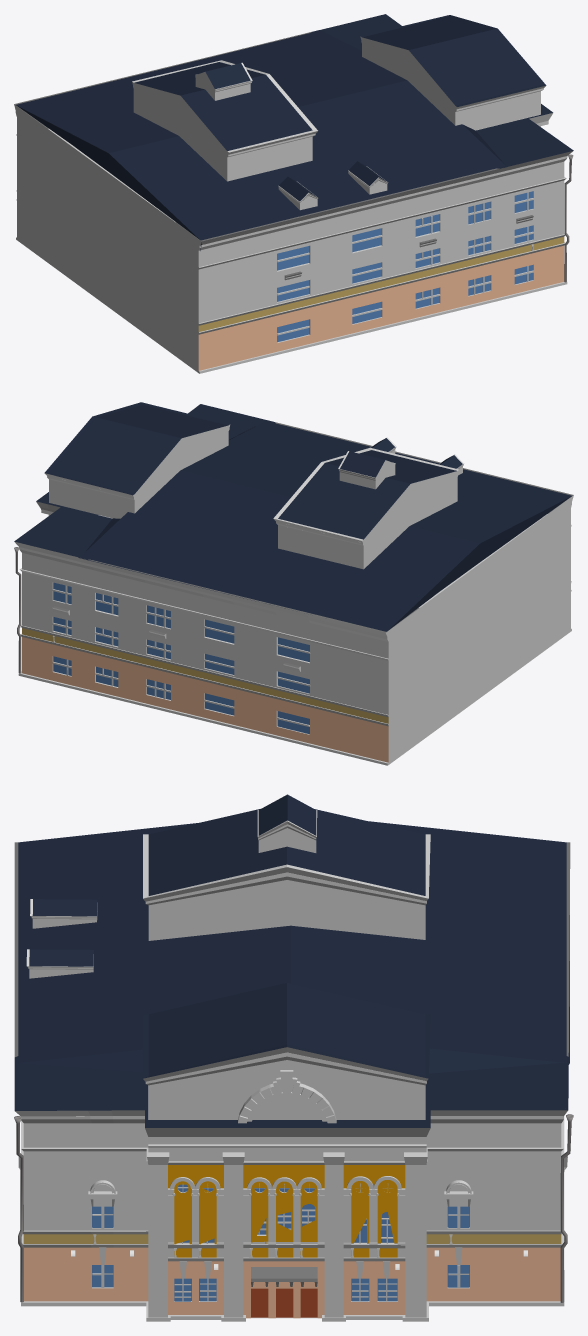
The model's file is teatr_Ostrovskogo.fbx.
3 renders of one model, top to bottom at view 1: azimuth 30°, elevation 25°; view 2: azimuth 150°, elevation 25°; view 3: azimuth 270°, elevation 25°, orthographic. The views are drawn at different scales.
Visible parts, largest first — view 1: Cube.002; view 2: Cube.002; view 3: Cube.002.
Boxes of the visible parts, box(x1,y1,x2,y2) form: Cube.002: box(14, 14, 573, 373); Cube.002: box(14, 402, 573, 765); Cube.002: box(14, 794, 573, 1321).
Bounding box in the file's own units: 31754 × 16327 × 26285.
